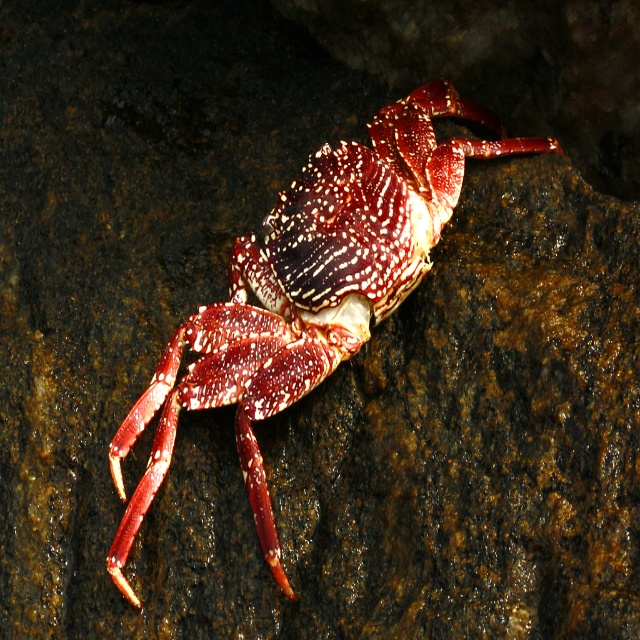Crab: (105, 76, 564, 614)
